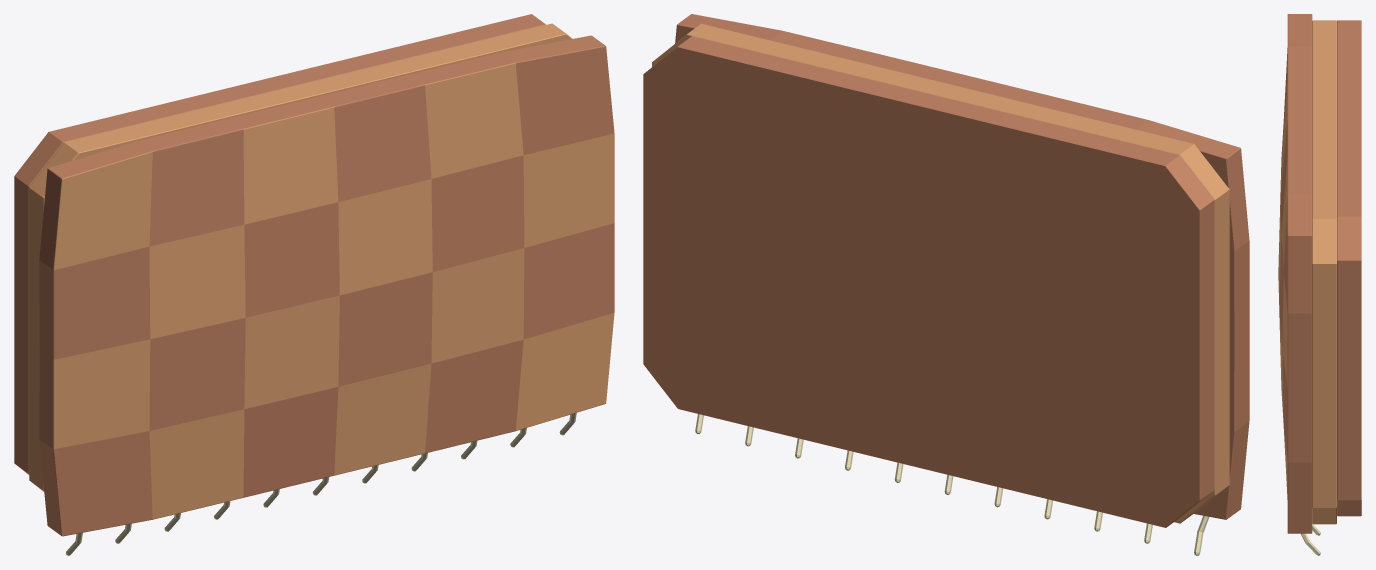
File: blanket.glb
3 renders of one model, left to right at view 1: azimuth 30°, elevation 25°; view 2: azimuth 150°, elevation 25°; view 3: azimuth 270°, elevation 25°, orthographic. The views are drawn at different scales.
Visible parts, largest first — view 1: blanket; view 2: blanket; view 3: blanket.
Boxes of the visible parts, box(x1,y1,x2,y2) form: blanket: box(14, 14, 614, 555); blanket: box(643, 14, 1249, 555); blanket: box(1278, 14, 1361, 555).
Size of the model in its own units: 0.351 by 0.2407 by 0.054.
